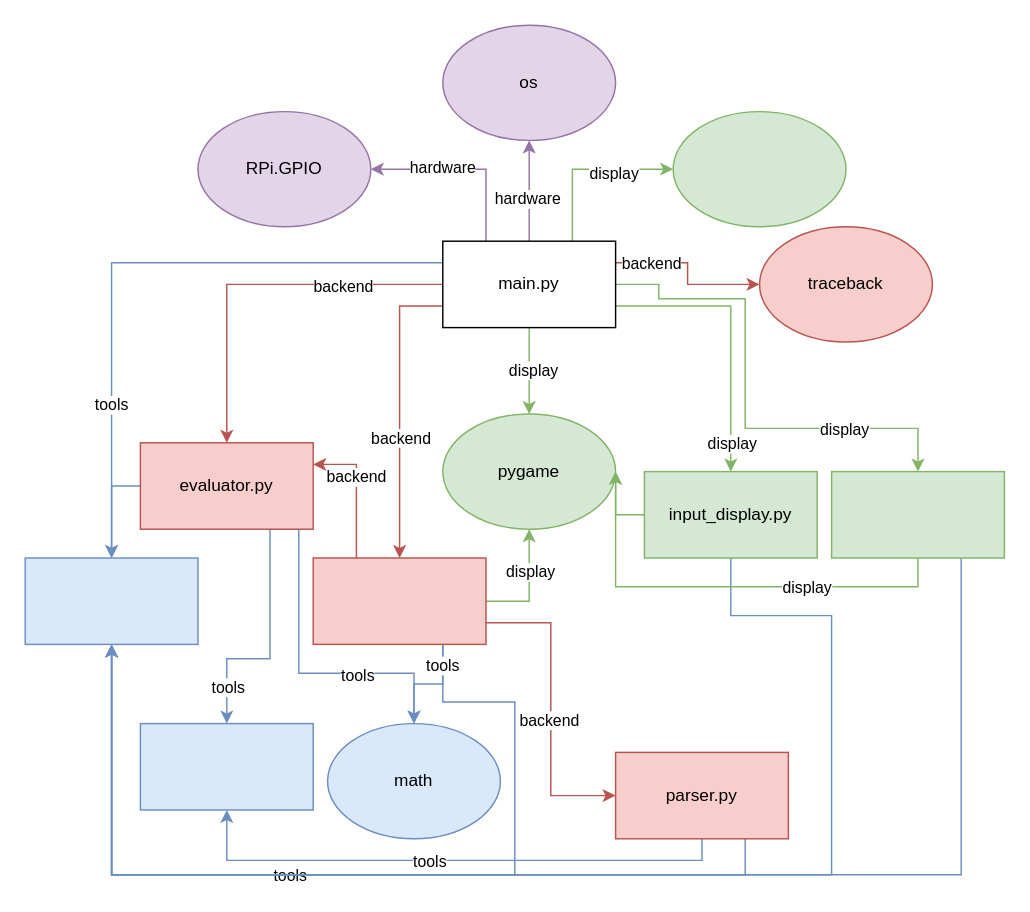
The diagram is 1030 pixels wide and 912 high, and some of its shapes have lost their labels. Here are the shapes that lost their labels. From the top down, the centre of each, then its label:
(759,168): time
(917,514): graph_display.py
(111,600): constants.py
(399,600): expression_tree.py
(226,766): helpers.py
